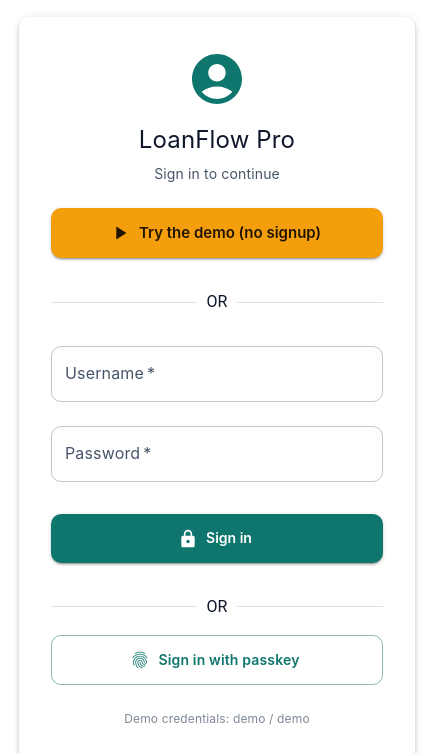
Test: <LoginPage /> › flags missing fields when submitting an empty form
Click the button "Sign in" at {"x": 217, "y": 539}, box [51,514,383,563]
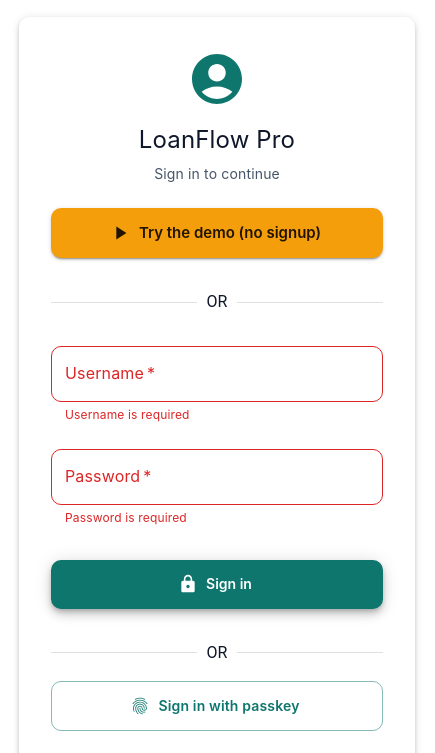
Check: the text "Username is required" is shown, box [65,407,190,422]
Check: the text "Password is required" is shown, box [65,510,187,525]
